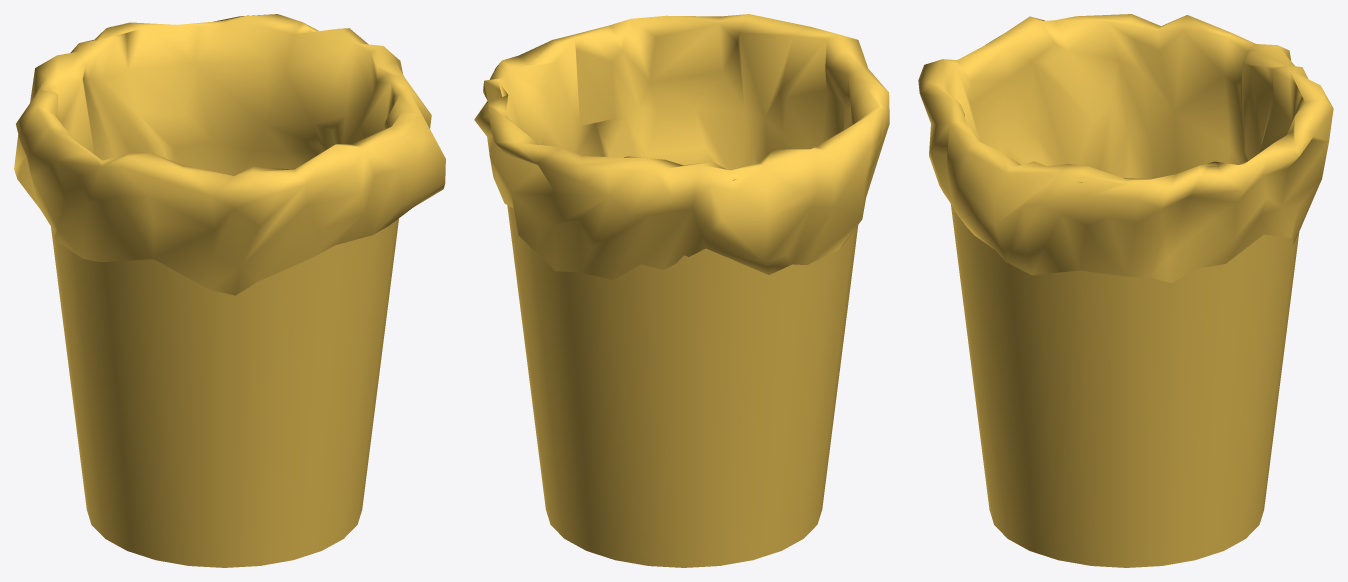
File: poubelle_low.FBX
3 views of the same model, side by side, from view 1: azimuth 30°, elevation 25°; view 2: azimuth 150°, elevation 25°; view 3: azimuth 270°, elevation 25° (orthographic).
Visible parts, largest first — view 1: sac, poubelle; view 2: poubelle, sac; view 3: poubelle, sac.
Boxes of the visible parts, x1,y1,x2,y2 form: sac: [14, 14, 445, 295]; poubelle: [41, 84, 398, 567]; poubelle: [507, 179, 858, 567]; sac: [474, 14, 889, 280]; poubelle: [951, 182, 1299, 567]; sac: [918, 14, 1333, 282].
Size of the model in its own units: 23.71 by 26.74 by 23.81.
